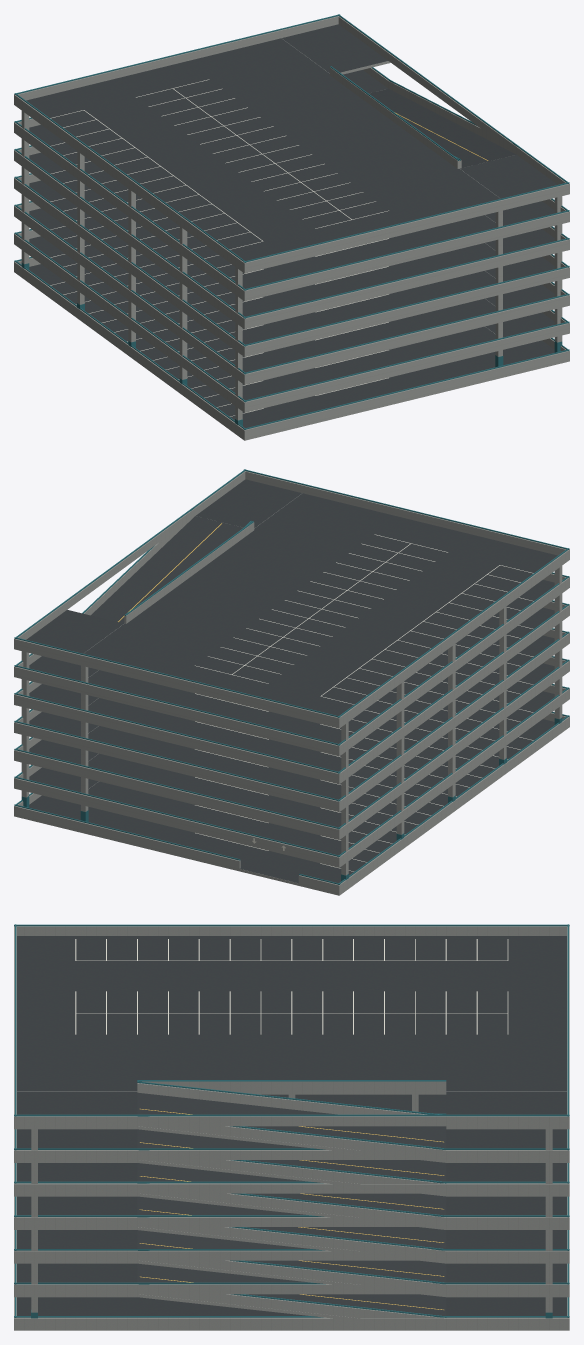
The model's file is medium_07.glb.
3 renders of one model, top to bottom at view 1: azimuth 30°, elevation 25°; view 2: azimuth 150°, elevation 25°; view 3: azimuth 270°, elevation 25°, orthographic. The views are drawn at different scales.
Visible parts, largest first — view 1: medium_07_Asphalt, medium_07_Concrete, medium_07_Teal, medium_07_Paint; view 2: medium_07_Asphalt, medium_07_Concrete, medium_07_Teal, medium_07_Paint; view 3: medium_07_Asphalt, medium_07_Concrete, medium_07_Teal, medium_07_Paint, medium_07_Yellow.
Boxes of the visible parts, x1=… form: medium_07_Asphalt: x1=26, y1=24, x2=557, y2=428; medium_07_Concrete: x1=14, y1=16, x2=569, y2=440; medium_07_Teal: x1=14, y1=14, x2=569, y2=429; medium_07_Paint: x1=50, y1=79, x2=388, y2=416; medium_07_Asphalt: x1=26, y1=479, x2=557, y2=883; medium_07_Concrete: x1=14, y1=471, x2=569, y2=895; medium_07_Teal: x1=14, y1=469, x2=569, y2=884; medium_07_Paint: x1=195, y1=534, x2=533, y2=871; medium_07_Asphalt: x1=17, y1=936, x2=566, y2=1315; medium_07_Concrete: x1=14, y1=926, x2=569, y2=1330; medium_07_Teal: x1=14, y1=924, x2=569, y2=1318; medium_07_Paint: x1=75, y1=939, x2=508, y2=1034; medium_07_Yellow: x1=139, y1=1108, x2=444, y2=1309.
Bounding box in the file's own units: 44 × 23.08 × 54.02.
6 materials, 2 textured.
